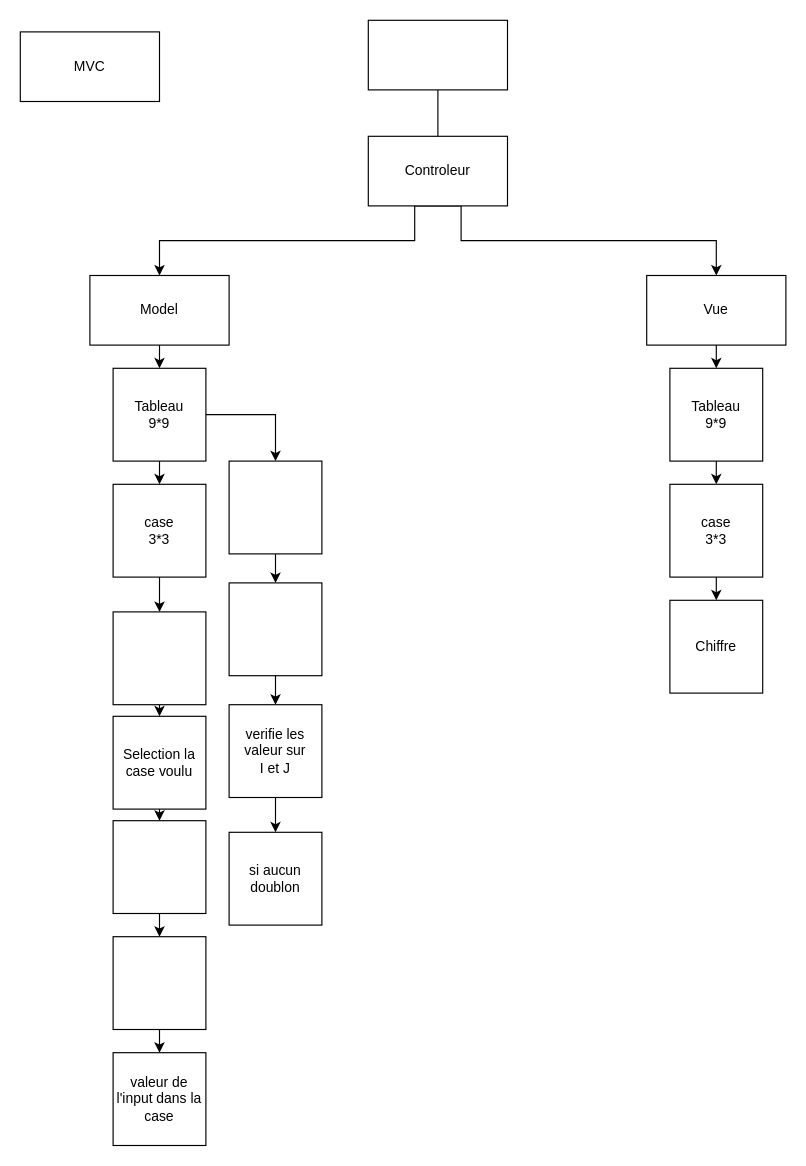
Image size: 806x1166. Some labels were removed from this diagram. The centre of each missing label's shape, as x and y in pixels:
condition de victoire: the point at 275,507
input du chiffre: the point at 159,866
Joueur: the point at 159,658
Si tableau =81: the point at 275,629
Sudoku: the point at 437,54
valeur de l'input entre 1 à 9: the point at 159,983
